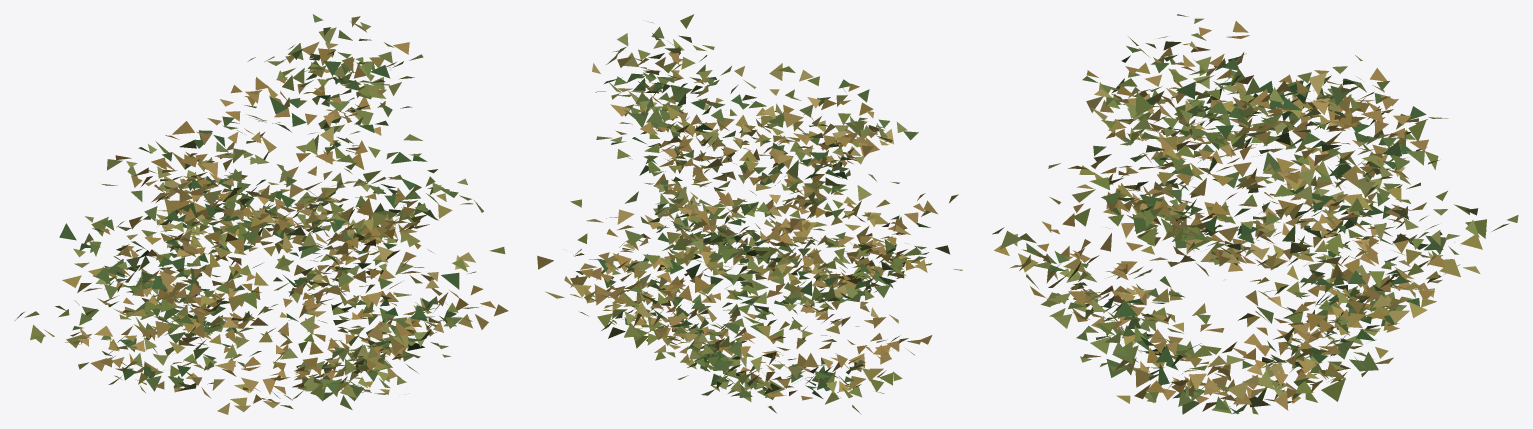
Rendered from waseda-tree-crowns.glb.
3 renders of one model, left to right at view 1: azimuth 30°, elevation 25°; view 2: azimuth 150°, elevation 25°; view 3: azimuth 270°, elevation 25°, orthographic. The views are drawn at different scales.
Visible parts, largest first — view 1: Distant tree crown 1, Distant tree crown 2, Distant tree crown 0; view 2: Distant tree crown 0, Distant tree crown 1, Distant tree crown 2; view 3: Distant tree crown 1, Distant tree crown 2, Distant tree crown 0.
Boxes of the visible parts, left/top/right/bottom form: Distant tree crown 1: left=55, top=14, right=483, bottom=401; Distant tree crown 2: left=65, top=38, right=508, bottom=403; Distant tree crown 0: left=15, top=16, right=505, bottom=414; Distant tree crown 0: left=545, top=14, right=962, bottom=414; Distant tree crown 1: left=576, top=26, right=950, bottom=401; Distant tree crown 2: left=537, top=21, right=958, bottom=400; Distant tree crown 1: left=992, top=14, right=1518, bottom=414; Distant tree crown 2: left=1030, top=21, right=1445, bottom=411; Distant tree crown 0: left=994, top=41, right=1509, bottom=414.
Size of the model in its own units: 8.03 by 6.25 by 7.8.
